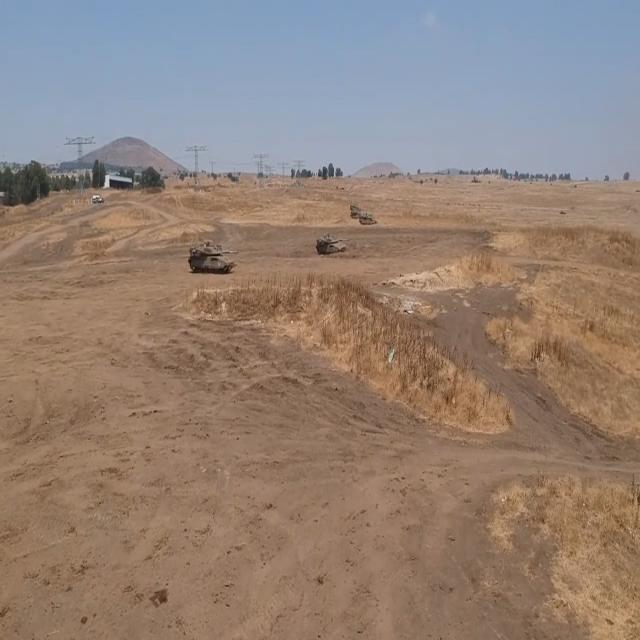tank: (184, 227, 238, 279), (316, 231, 351, 262), (356, 210, 375, 226), (348, 202, 357, 214)
